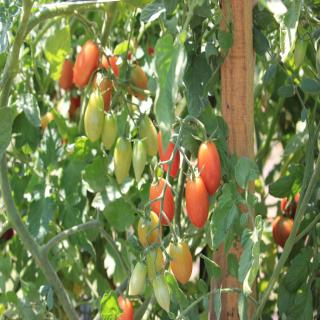tomato: (189, 125, 220, 197), (82, 88, 108, 144), (187, 172, 209, 230), (148, 170, 172, 222), (74, 39, 98, 89), (170, 234, 191, 288), (137, 114, 159, 163), (140, 208, 162, 251), (158, 126, 180, 168), (113, 135, 131, 182), (99, 107, 118, 150), (132, 140, 148, 180)
